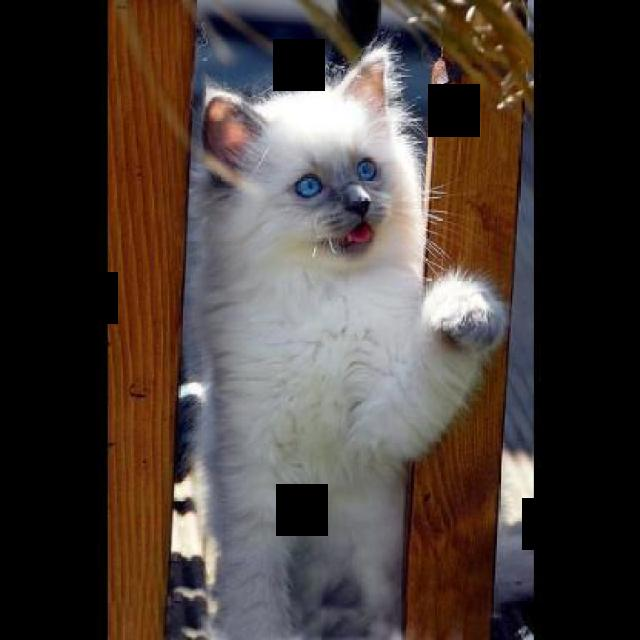unauthorized: (175, 31, 512, 638)
